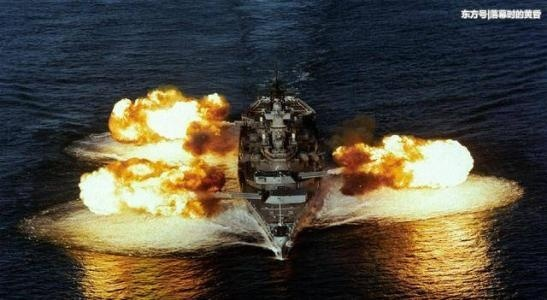fire: (75, 82, 236, 218), (332, 129, 475, 189)
